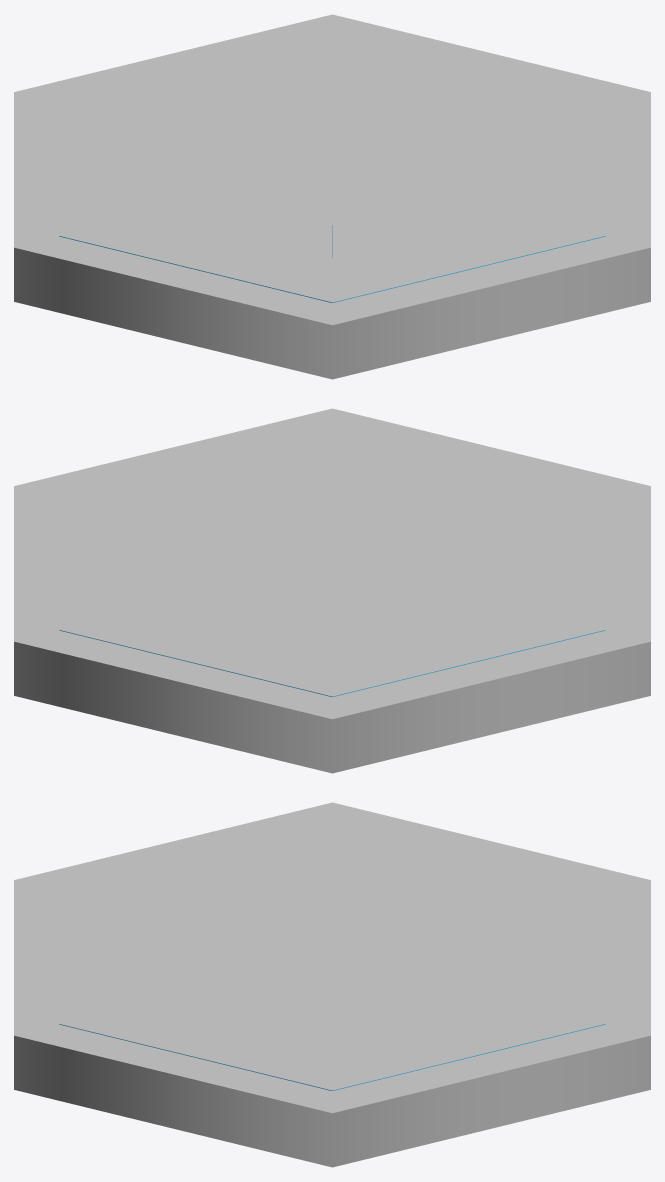
File: Puzzle_9.FBX
The picture shows the model from 3 angles, top to bottom: view 1: azimuth 30°, elevation 25°; view 2: azimuth 150°, elevation 25°; view 3: azimuth 270°, elevation 25°; orthographic projection.
Visible parts, largest first — view 1: Cylinder001, 2, 3, 6, 5, 4, 1, 7; view 2: Cylinder001, 2, 3, 6, 1, 4, 5, 7; view 3: Cylinder001, 2, 3, 6, 1, 4, 5, 7.
Part boxes in pixels (x1,y1,x2,y2): Cylinder001: (14, 14, 650, 379); 2: (59, 36, 605, 162); 3: (229, 80, 605, 235); 6: (150, 147, 332, 257); 5: (59, 213, 421, 302); 4: (332, 192, 605, 281); 1: (421, 102, 605, 191); 7: (59, 141, 150, 235); Cylinder001: (14, 408, 650, 773); 2: (59, 496, 410, 696); 3: (151, 452, 423, 632); 6: (332, 519, 514, 632); 1: (59, 451, 331, 564); 4: (243, 430, 515, 540); 5: (514, 474, 605, 629); 7: (410, 607, 605, 677); Cylinder001: (14, 802, 650, 1167); 2: (332, 871, 605, 1090); 3: (149, 913, 514, 1045); 6: (151, 868, 436, 956); 1: (149, 979, 425, 1090); 4: (59, 913, 240, 1046); 5: (59, 824, 332, 934); 7: (332, 824, 526, 893).
Size of the model in its own units: 4 by 0.3294 by 3.46.
